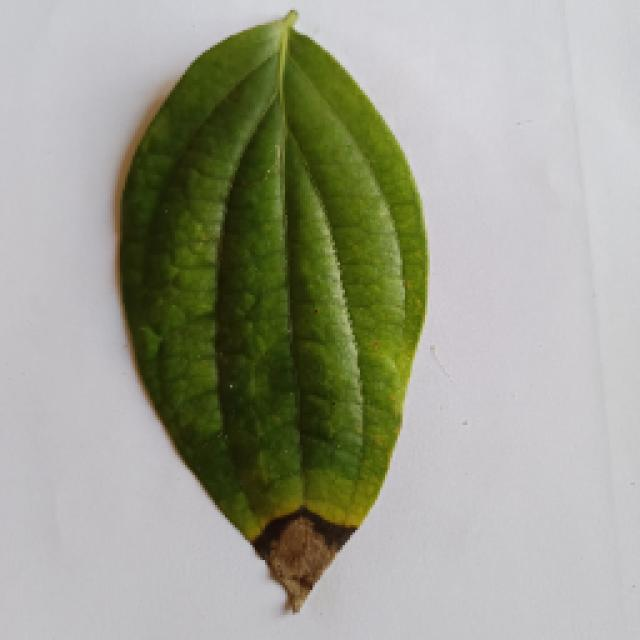footrot: (112, 10, 428, 605)
